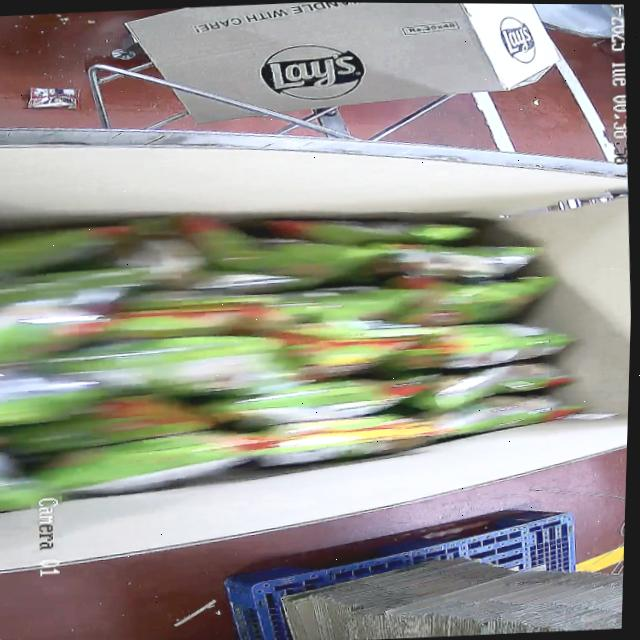YOGURT_HERB: (0, 194, 596, 513)
